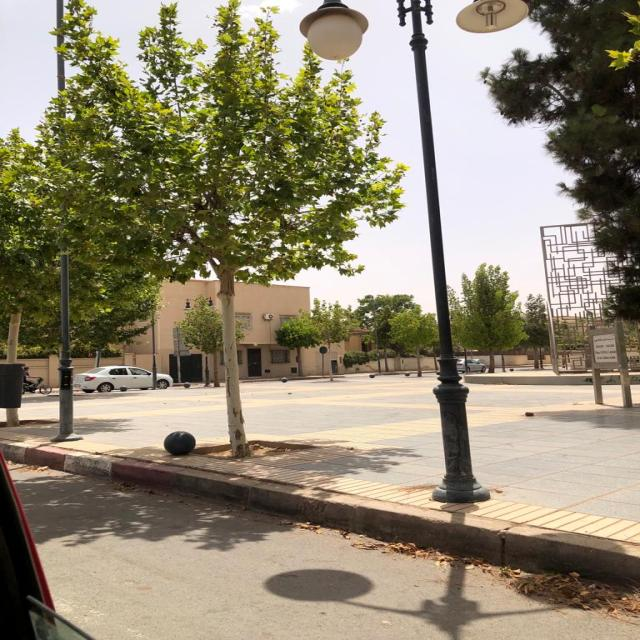Electric pole: (399, 0, 491, 504)
Tree: (40, 0, 406, 457)
